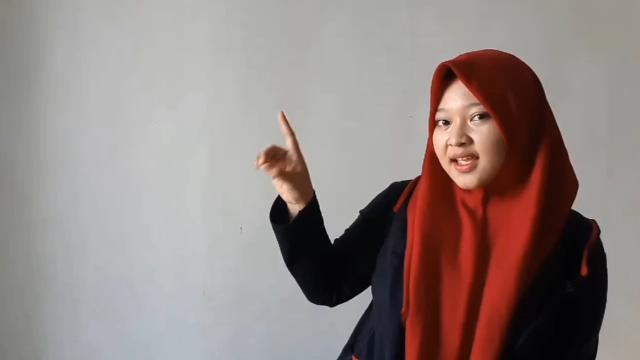D: (254, 109, 312, 201)
